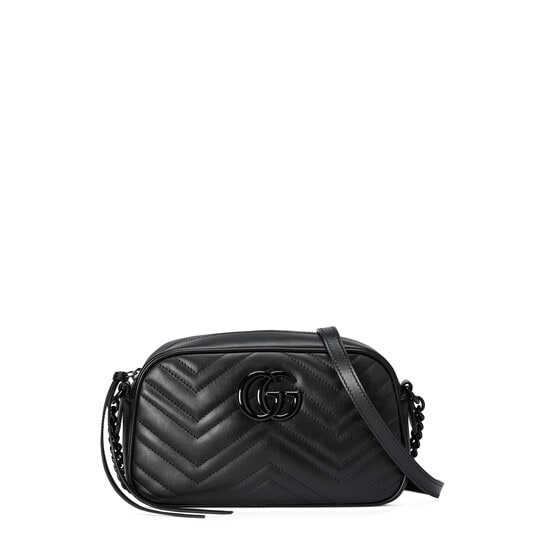Gucci: (111, 322, 435, 512), (226, 367, 311, 430)
